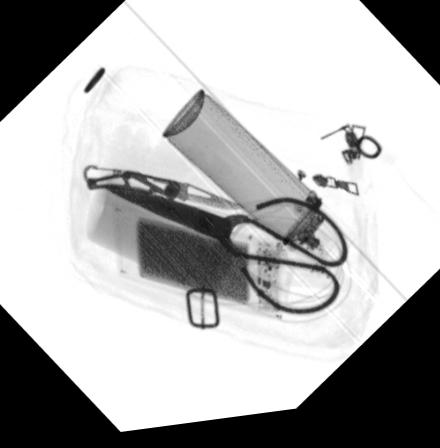Knife: (83, 169, 255, 216)
Powerbank: (115, 207, 284, 324)
Scissors: (98, 184, 349, 326)
Sprayer: (161, 97, 357, 286)
